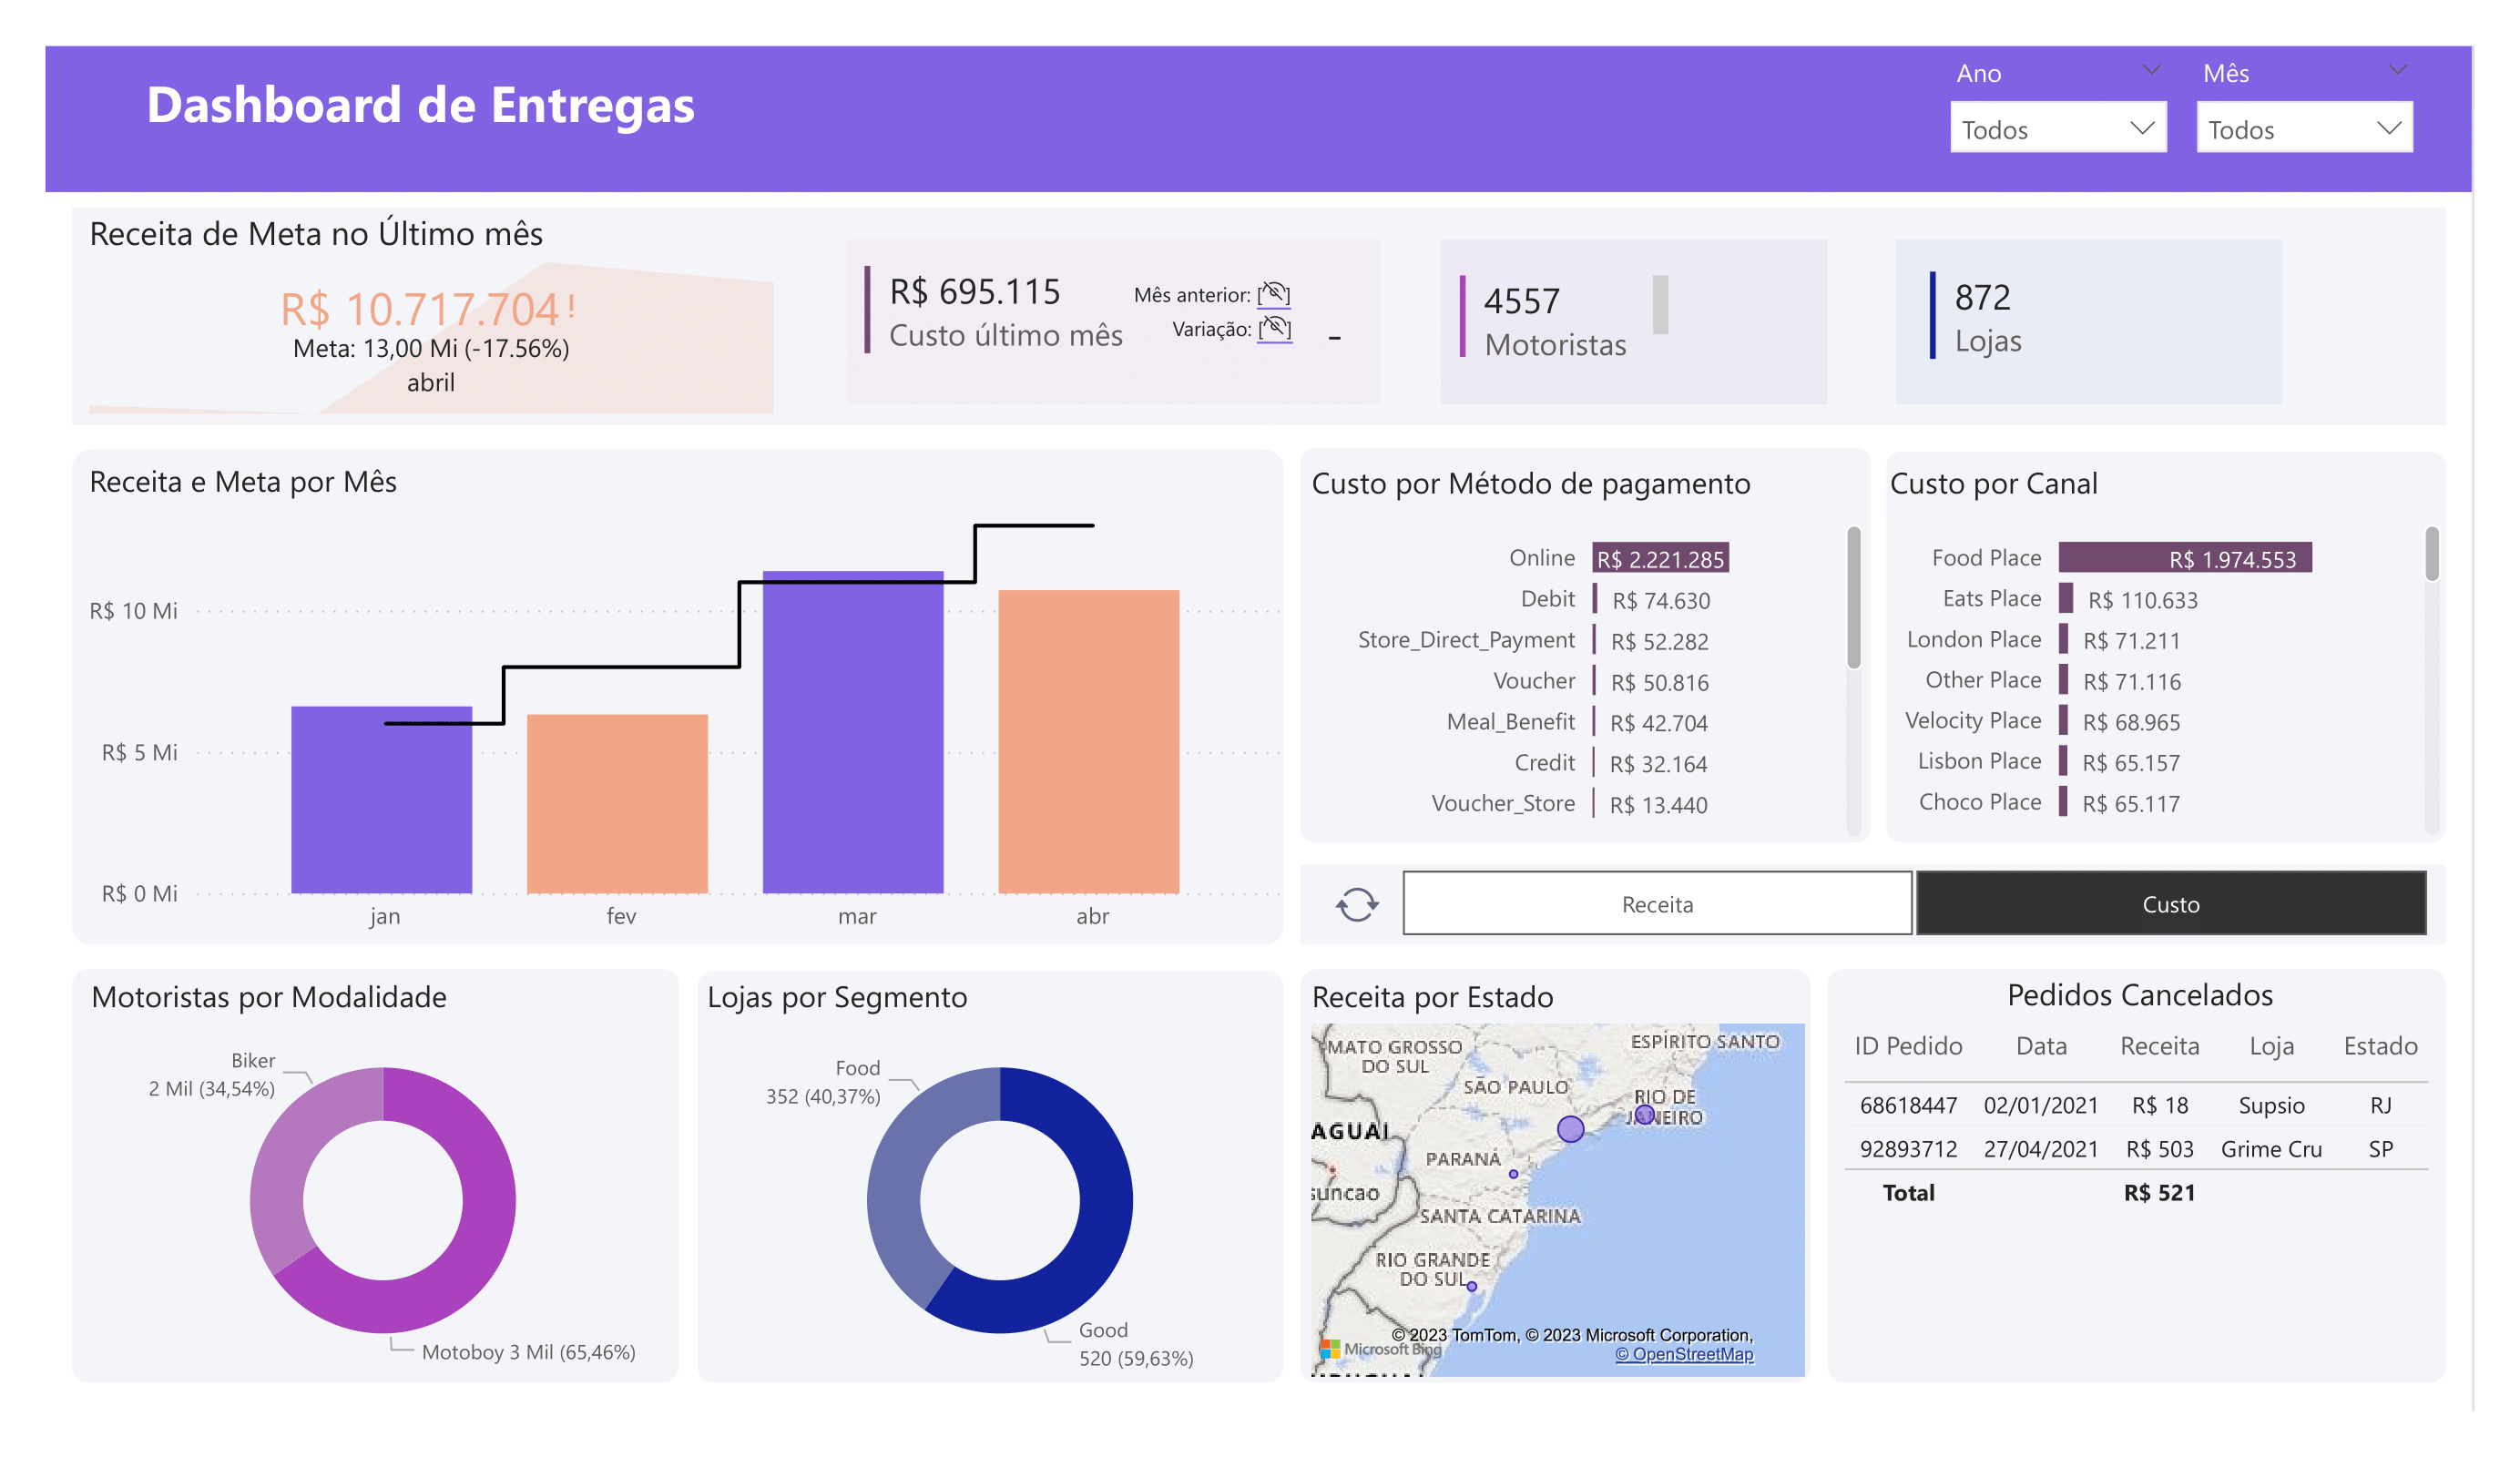

The page's visual inventory and layout, read from the dashboard file:
{"tool":"powerbi","page":{"name":"Página 1","canvas":[1280,720],"ordinal":0},"visuals":[{"type":"lineClusteredColumnComboChart","title":"Receita e Meta por Mês","fields":{"Category":["dCalendário.Mês Abrev"],"Y":["Medidas.Receita"],"Y2":["Medidas.Soma Meta"]},"box":[18,218,639,259],"z":1000},{"type":"kpi","title":"Receita de Meta no Último mês","fields":{"Indicator":["Medidas.Receita"],"Goal":["Medidas.Soma Meta"],"TrendLine":["dCalendário.Nome do Mês"]},"box":[18.4,86.3,370.6,113.2],"z":2000},{"type":"multiRowCard","fields":{"Values":["Medidas.custo ultimo mes"]},"box":[427.1,111.4,168.6,72.9],"z":3000},{"type":"textbox","box":[568.6,115.9,150,51.4],"z":4000},{"type":"card","fields":{"Values":["Medidas.seta var custo"]},"box":[662.9,138.6,34.3,28.6],"z":5000},{"type":"multiRowCard","fields":{"Values":["Medidas.Qtd motoristas"]},"box":[741.4,115.7,120,52.9],"z":6000},{"type":"multiRowCard","fields":{"Values":["Medidas.Qtd lojas"]},"box":[988.6,114.3,67.1,65.7],"z":7000},{"type":"slicer","fields":{"Values":["Receita / Custo.Receita / Custo"]},"box":[690,428.2,590,48.2],"z":8000},{"type":"clusteredBarChart","fields":{"Y":["Medidas.Custo Total"],"Category":["fPedidos.Método pagamento"]},"box":[663.4,219.3,299.9,202.3],"z":9000},{"type":"clusteredBarChart","fields":{"Y":["Medidas.Custo Total"],"Category":["dCanal.Canal"]},"box":[968.2,219.5,300,201.8],"z":10000},{"type":"donutChart","title":"Motoristas por Modalidade","fields":{"Y":["Medidas.Qtd motoristas"],"Category":["dMotoristas.Modalidade"]},"box":[18.6,490,318.6,217.1],"z":11000},{"type":"donutChart","title":"Lojas por Segmento","fields":{"Y":["Medidas.Qtd lojas"],"Category":["dLoja.Segmento"]},"box":[344.3,490,318.6,217.1],"z":12000},{"type":"map","fields":{"Category":["dLoja.Estado"],"Size":["Medidas.Receita"]},"box":[662.9,490,270,217.1],"z":13000},{"type":"tableEx","title":"Pedidos Cancelados","fields":{"Values":["fPedidos.ID Pedido","dCalendário.Data","Medidas.Receita","dLoja.Loja","dLoja.Estado"]},"box":[943.5,489.4,323.9,217.8],"z":13002},{"type":"slicer","fields":{"Values":["dCalendário.Ano"]},"box":[994.8,0,134.4,72.1],"z":13003},{"type":"slicer","fields":{"Values":["dCalendário.Mês Abrev"]},"box":[1125,0,134.4,72.1],"z":13004},{"type":"textbox","box":[48.1,5.7,340.9,59.4],"z":13005}]}

Visuals, with their boxes on the page's 1280x720 design canvas (x1, y1, x2, y2). These are canvas units, not pixel positions in the 2520x1457 screenshot, which may show the page scaled, cropped or inside an application window:
"Receita e Meta por Mês" lineClusteredColumnComboChart: [x1=18, y1=218, x2=657, y2=477]
"Receita de Meta no Último mês" kpi: [x1=18, y1=86, x2=389, y2=200]
multiRowCard - Medidas.custo ultimo mes: [x1=427, y1=111, x2=596, y2=184]
textbox: [x1=569, y1=116, x2=719, y2=167]
card - Medidas.seta var custo: [x1=663, y1=139, x2=697, y2=167]
multiRowCard - Medidas.Qtd motoristas: [x1=741, y1=116, x2=861, y2=169]
multiRowCard - Medidas.Qtd lojas: [x1=989, y1=114, x2=1056, y2=180]
slicer - Receita / Custo.Receita / Custo: [x1=690, y1=428, x2=1280, y2=476]
clusteredBarChart - Medidas.Custo Total x fPedidos.Método pagamento: [x1=663, y1=219, x2=963, y2=422]
clusteredBarChart - Medidas.Custo Total x dCanal.Canal: [x1=968, y1=220, x2=1268, y2=421]
"Motoristas por Modalidade" donutChart: [x1=19, y1=490, x2=337, y2=707]
"Lojas por Segmento" donutChart: [x1=344, y1=490, x2=663, y2=707]
map - dLoja.Estado x Medidas.Receita: [x1=663, y1=490, x2=933, y2=707]
"Pedidos Cancelados" tableEx: [x1=944, y1=489, x2=1267, y2=707]
slicer - dCalendário.Ano: [x1=995, y1=0, x2=1129, y2=72]
slicer - dCalendário.Mês Abrev: [x1=1125, y1=0, x2=1259, y2=72]
textbox: [x1=48, y1=6, x2=389, y2=65]
